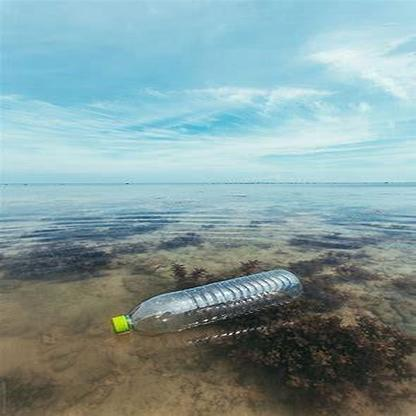plastic bottle: (110, 269, 303, 336)
